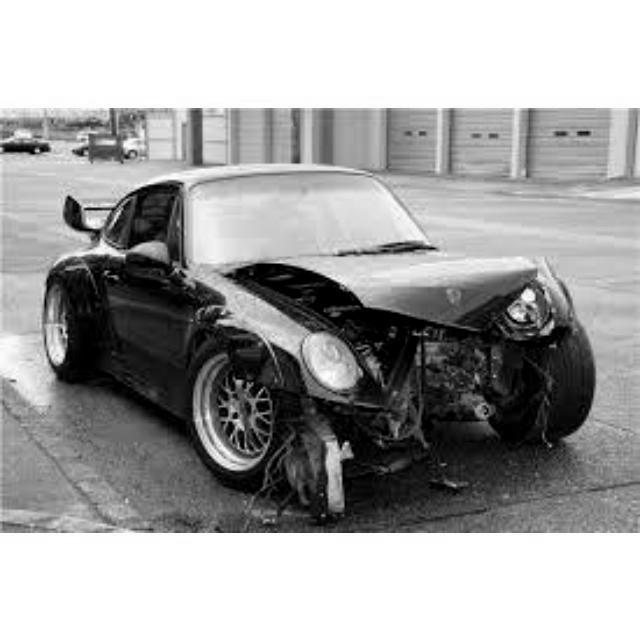bonnet-dent: (266, 247, 503, 333)
fender-dent: (192, 282, 287, 386)
